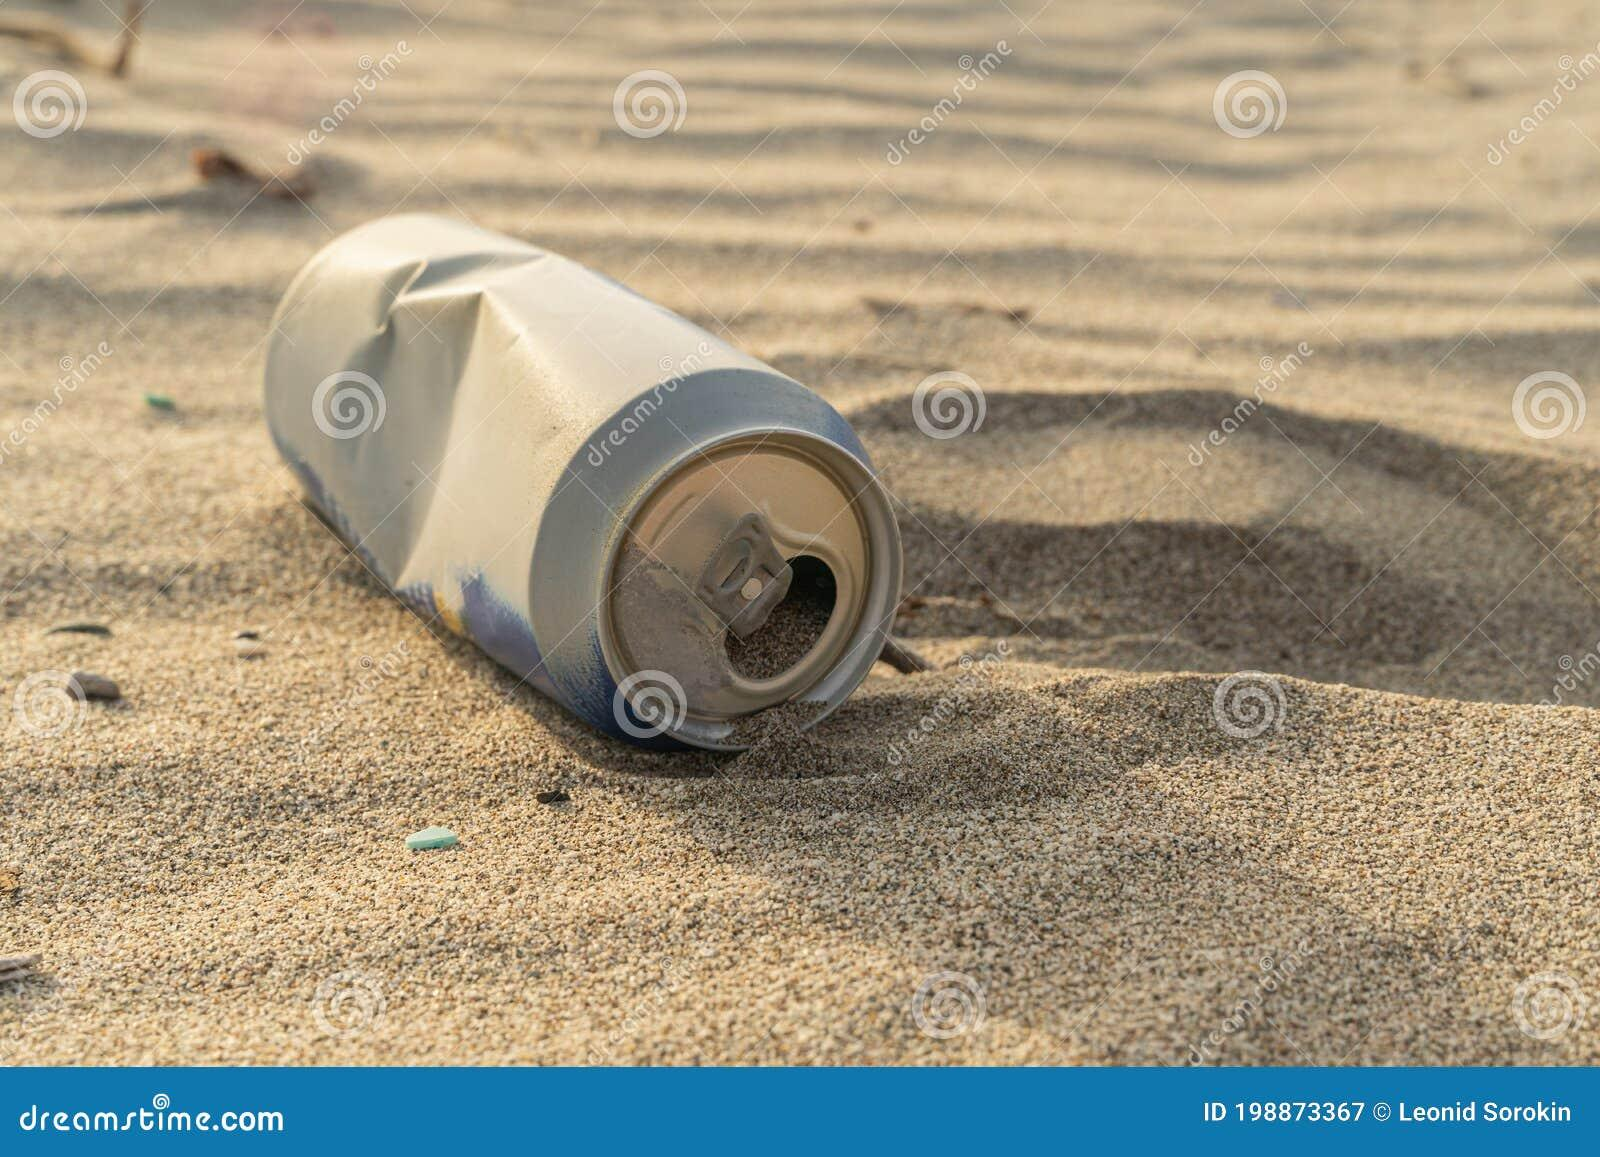lata: (175, 147, 988, 838)
